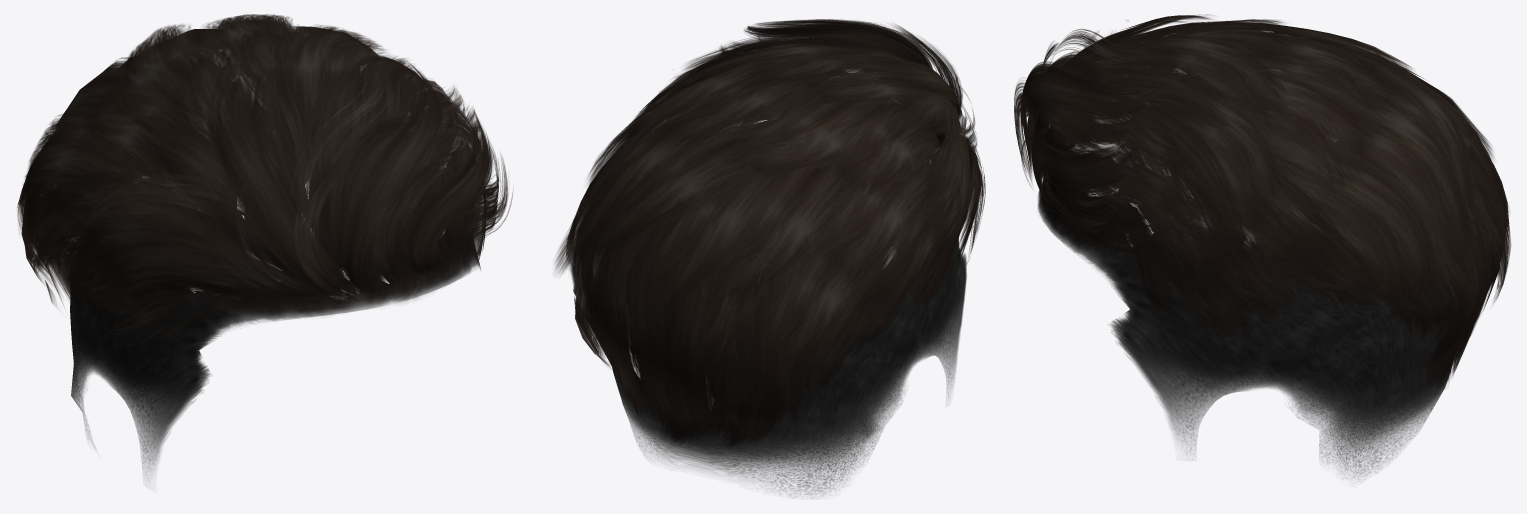
Rendered from Wavy_Quiff.glb.
3 views of the same model, side by side, from view 1: azimuth 30°, elevation 25°; view 2: azimuth 150°, elevation 25°; view 3: azimuth 270°, elevation 25° (orthographic). The views are drawn at different scales.
Visible parts, largest first — view 1: s4studio_mesh_3.002, face.002_Plane.003; view 2: s4studio_mesh_3.002, face.002_Plane.003; view 3: s4studio_mesh_3.002, face.002_Plane.003.
Part boxes in pixels (x1,y1,x2,y2): s4studio_mesh_3.002: (17, 14, 512, 345); face.002_Plane.003: (70, 245, 480, 479); s4studio_mesh_3.002: (555, 19, 985, 449); face.002_Plane.003: (612, 153, 966, 497); s4studio_mesh_3.002: (1014, 14, 1510, 390); face.002_Plane.003: (1038, 192, 1457, 479).
Bounding box in the file's own units: 0.2152 × 0.2378 × 0.2573.
Materials: 2 (2 with a texture image).
